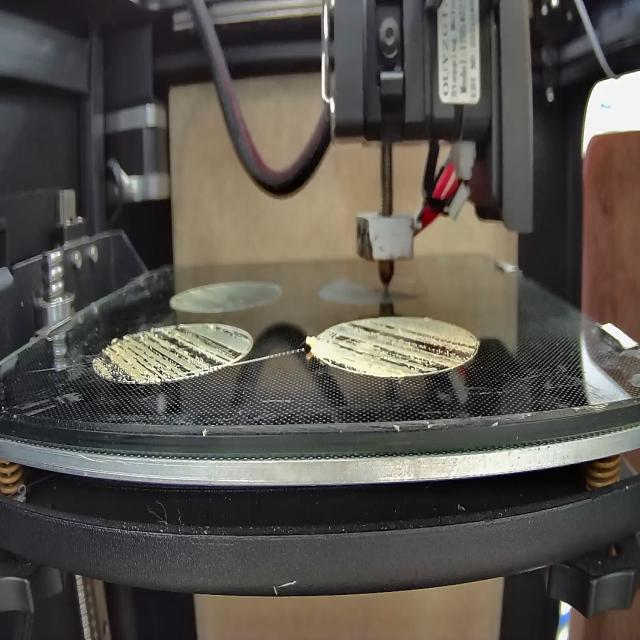under_extrusion: (91, 328, 251, 384), (319, 326, 477, 368)
